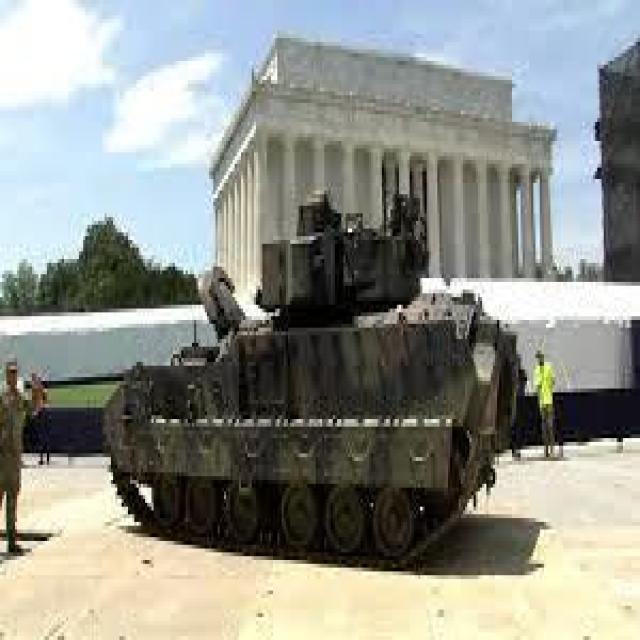Tanks: (101, 192, 528, 574)
